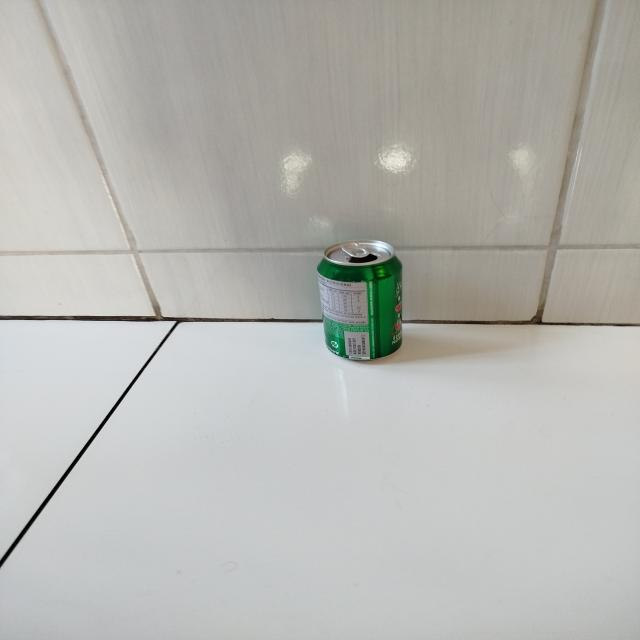Guarana: (316, 238, 402, 361)
